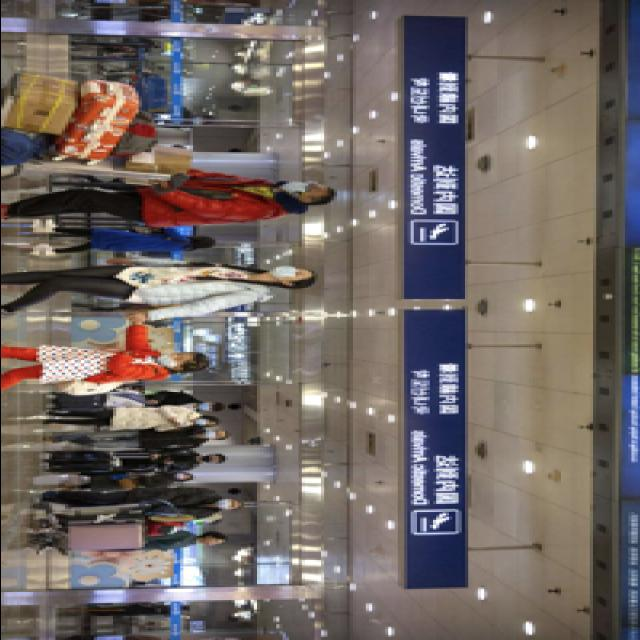mask_weared_incorrect: (157, 354, 189, 369)
with_mask: (282, 181, 324, 197), (269, 266, 307, 282), (214, 500, 237, 510), (202, 430, 224, 440), (198, 403, 214, 413), (202, 456, 220, 464), (196, 419, 214, 427), (176, 474, 189, 480)
without_mask: (202, 539, 224, 547)
